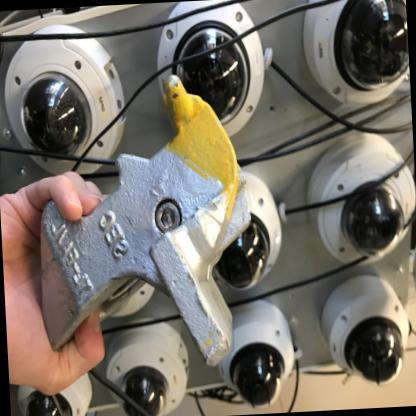Twistlock: (25, 65, 262, 377)
